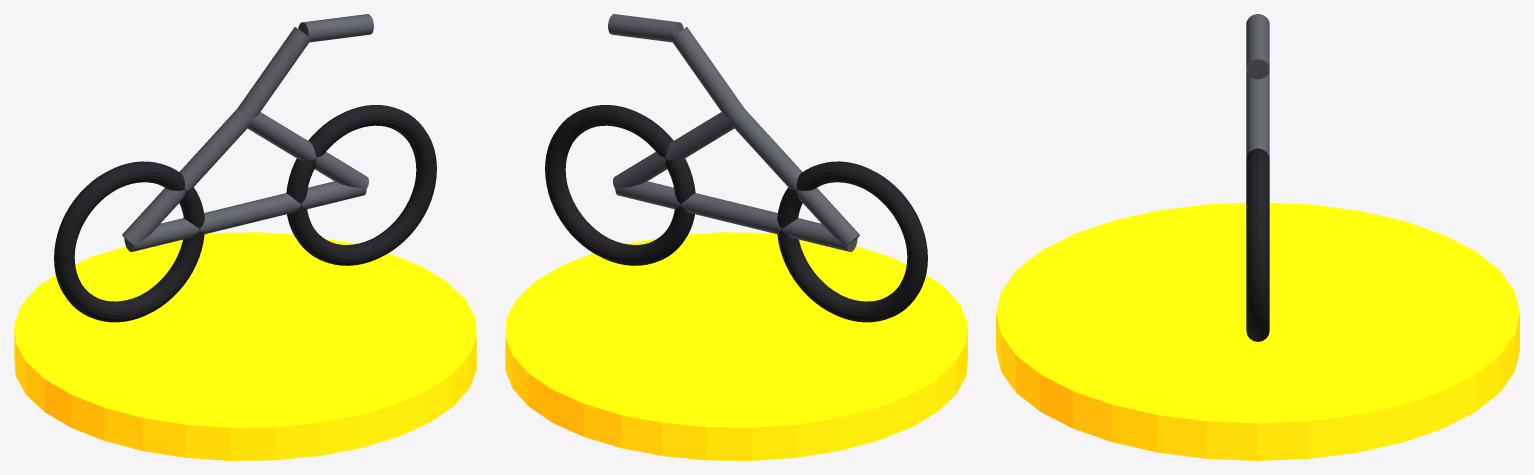
Rendered from fitness_spin_bike.glb.
3 views of the same model, side by side, from view 1: azimuth 30°, elevation 25°; view 2: azimuth 150°, elevation 25°; view 3: azimuth 270°, elevation 25° (orthographic). The views are drawn at different scales.
Visible parts, largest first — view 1: 02_08_Popular_Fitness_Spin_Bike_ROOT_base, 02_08_Popular_Fitness_Spin_Bike_part_01, 02_08_Popular_Fitness_Spin_Bike_part_02, 02_08_Popular_Fitness_Spin_Bike_part_05, 02_08_Popular_Fitness_Spin_Bike_part_03, 02_08_Popular_Fitness_Spin_Bike_part_04, 02_08_Popular_Fitness_Spin_Bike_part_06, 02_08_Popular_Fitness_Spin_Bike_part_07; view 2: 02_08_Popular_Fitness_Spin_Bike_ROOT_base, 02_08_Popular_Fitness_Spin_Bike_part_01, 02_08_Popular_Fitness_Spin_Bike_part_02, 02_08_Popular_Fitness_Spin_Bike_part_05, 02_08_Popular_Fitness_Spin_Bike_part_03, 02_08_Popular_Fitness_Spin_Bike_part_04, 02_08_Popular_Fitness_Spin_Bike_part_06, 02_08_Popular_Fitness_Spin_Bike_part_07; view 3: 02_08_Popular_Fitness_Spin_Bike_ROOT_base, 02_08_Popular_Fitness_Spin_Bike_part_02, 02_08_Popular_Fitness_Spin_Bike_part_04, 02_08_Popular_Fitness_Spin_Bike_part_07.
Boxes of the visible parts, x1,y1,x2,y2 form: 02_08_Popular_Fitness_Spin_Bike_ROOT_base: [14, 232, 476, 460]; 02_08_Popular_Fitness_Spin_Bike_part_01: [54, 161, 204, 322]; 02_08_Popular_Fitness_Spin_Bike_part_02: [286, 105, 436, 265]; 02_08_Popular_Fitness_Spin_Bike_part_05: [124, 181, 366, 251]; 02_08_Popular_Fitness_Spin_Bike_part_03: [122, 108, 250, 245]; 02_08_Popular_Fitness_Spin_Bike_part_04: [247, 112, 368, 188]; 02_08_Popular_Fitness_Spin_Bike_part_06: [237, 27, 309, 118]; 02_08_Popular_Fitness_Spin_Bike_part_07: [298, 14, 373, 42]; 02_08_Popular_Fitness_Spin_Bike_ROOT_base: [505, 232, 967, 460]; 02_08_Popular_Fitness_Spin_Bike_part_01: [777, 161, 927, 322]; 02_08_Popular_Fitness_Spin_Bike_part_02: [545, 105, 695, 265]; 02_08_Popular_Fitness_Spin_Bike_part_05: [615, 181, 857, 251]; 02_08_Popular_Fitness_Spin_Bike_part_03: [731, 108, 859, 245]; 02_08_Popular_Fitness_Spin_Bike_part_04: [613, 112, 734, 188]; 02_08_Popular_Fitness_Spin_Bike_part_06: [672, 27, 744, 118]; 02_08_Popular_Fitness_Spin_Bike_part_07: [608, 14, 683, 42]; 02_08_Popular_Fitness_Spin_Bike_ROOT_base: [996, 202, 1519, 460]; 02_08_Popular_Fitness_Spin_Bike_part_02: [1246, 148, 1269, 341]; 02_08_Popular_Fitness_Spin_Bike_part_04: [1246, 72, 1269, 158]; 02_08_Popular_Fitness_Spin_Bike_part_07: [1246, 14, 1269, 79].
Size of the model in its own units: 0.76 by 0.5893 by 0.76.
